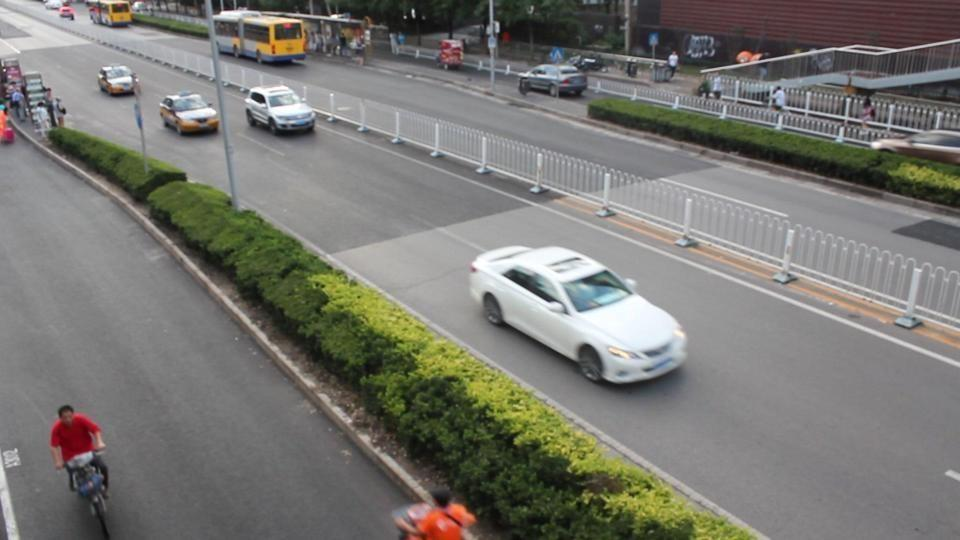car: (470, 243, 689, 388), (243, 83, 316, 135), (158, 92, 220, 135), (518, 64, 587, 98), (96, 65, 138, 96), (565, 54, 605, 72), (59, 3, 76, 20)
